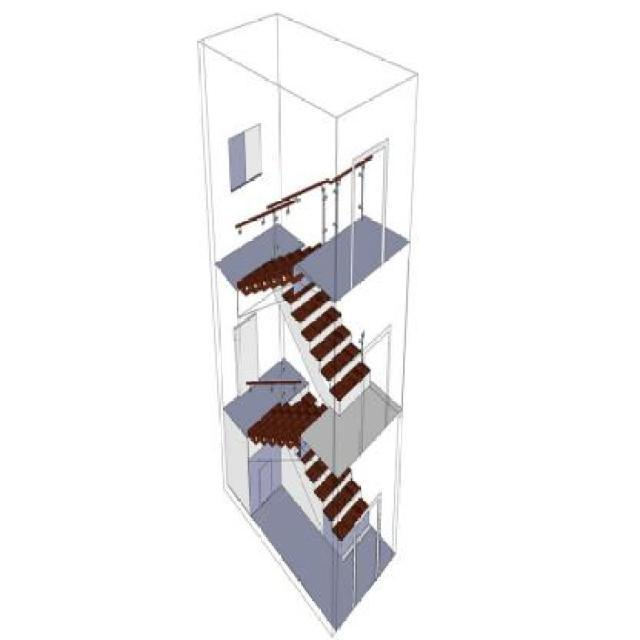stair: (260, 220, 388, 417)
